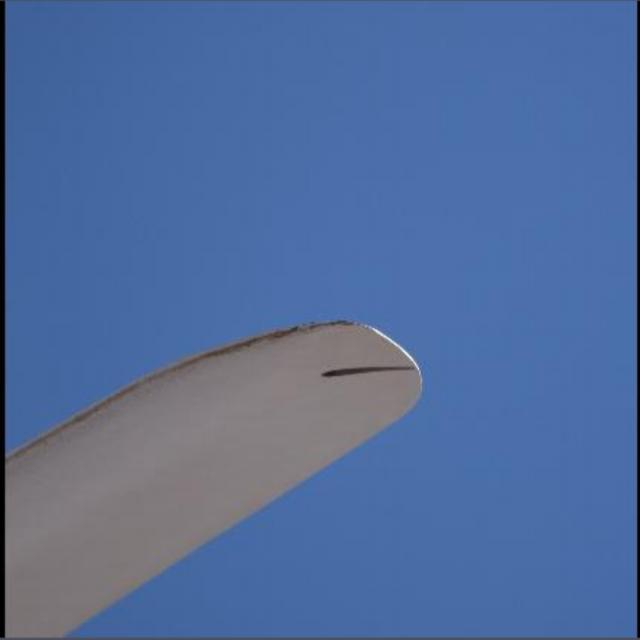Burn Mark: (317, 364, 417, 380)
EROSION: (5, 378, 144, 458), (200, 314, 365, 347), (157, 345, 240, 382)
